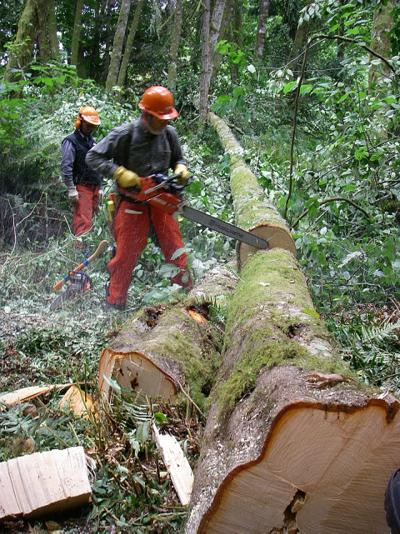person: (83, 85, 193, 313)
